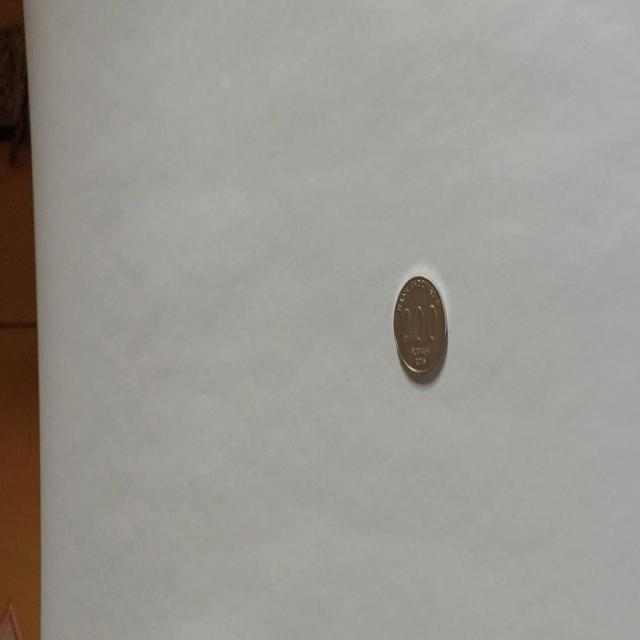dua ratus rupiah: (392, 273, 448, 379)
